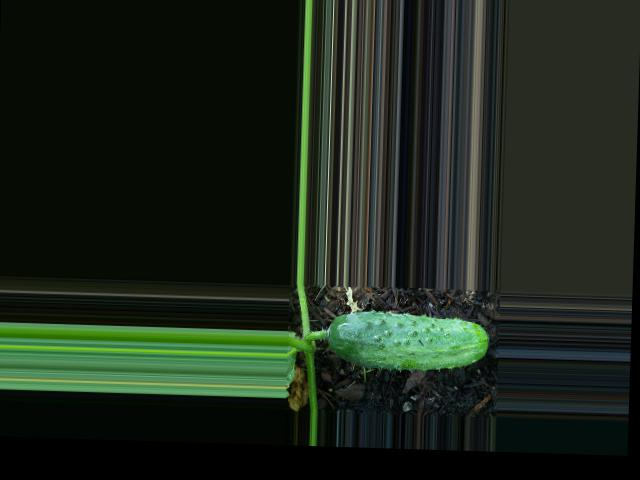cucumber: (327, 309, 490, 373)
